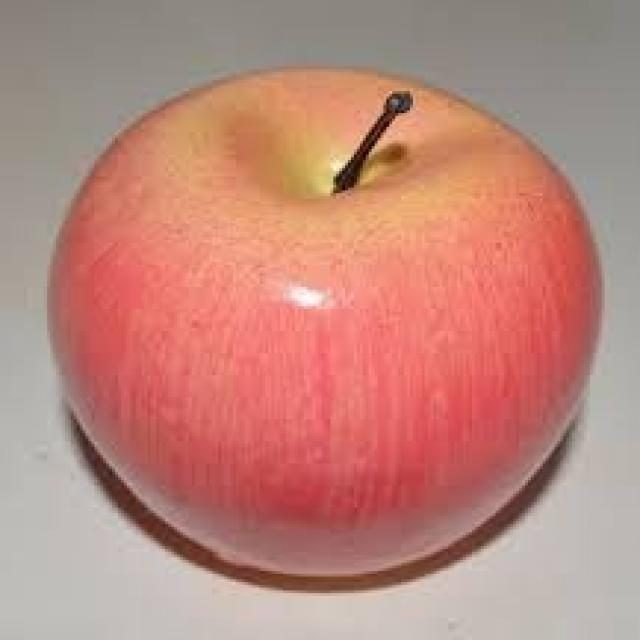Fresh Apple: (55, 82, 592, 585)
